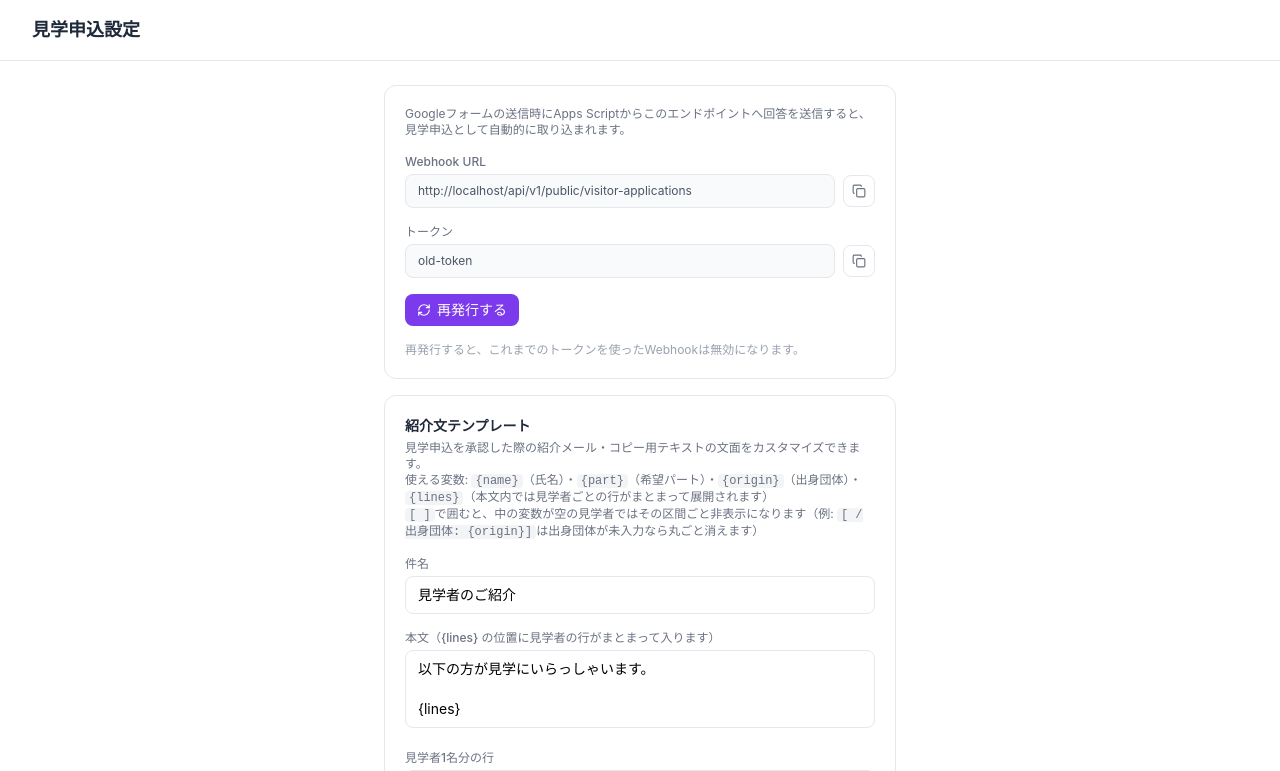
Test: VisitorWebhookPage › 発行済みで「再発行する」を押すと確認を出し、確定で新しいtokenに切り替わる
Check: the 2nd field showing "old-token" is shown, box x1=405 y1=244 x2=835 y2=278
Click the button "再発行する" at (462, 310), box x1=405 y1=294 x2=519 y2=326
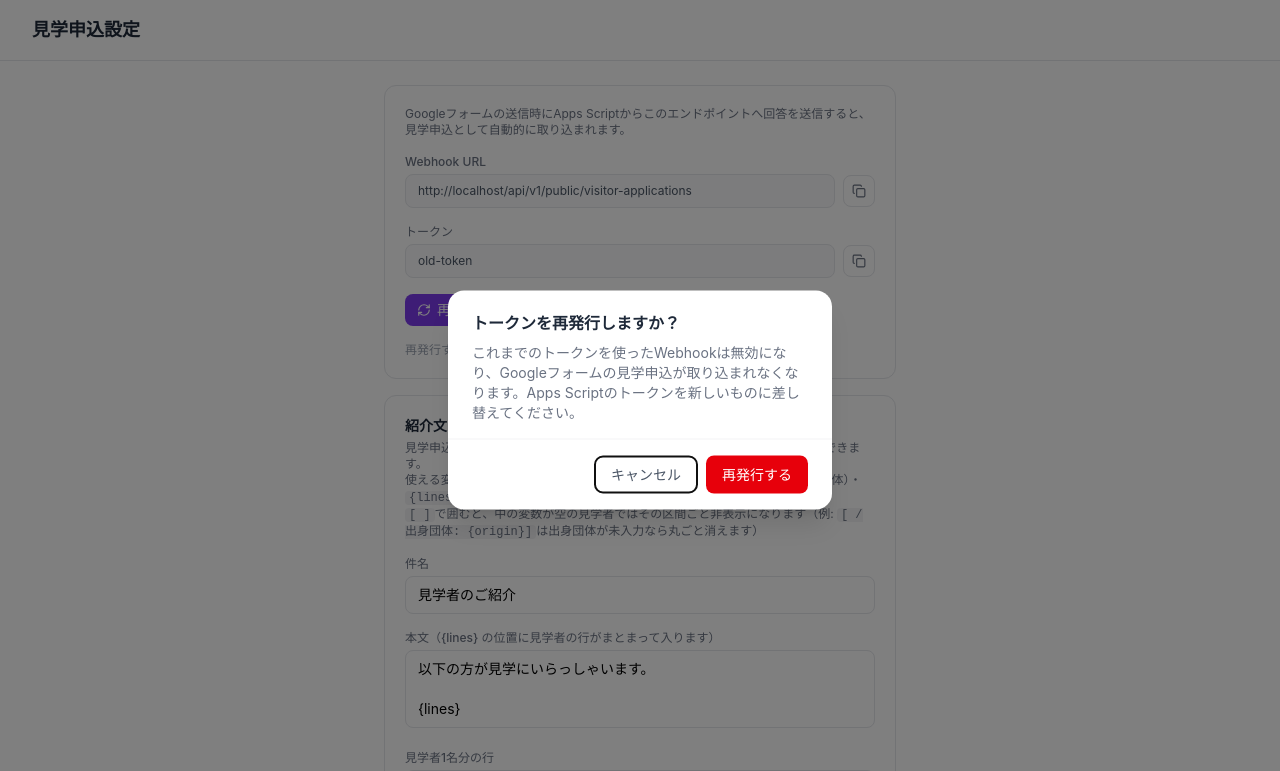
Click the button "再発行する" at (757, 474), box x1=706 y1=456 x2=808 y2=494
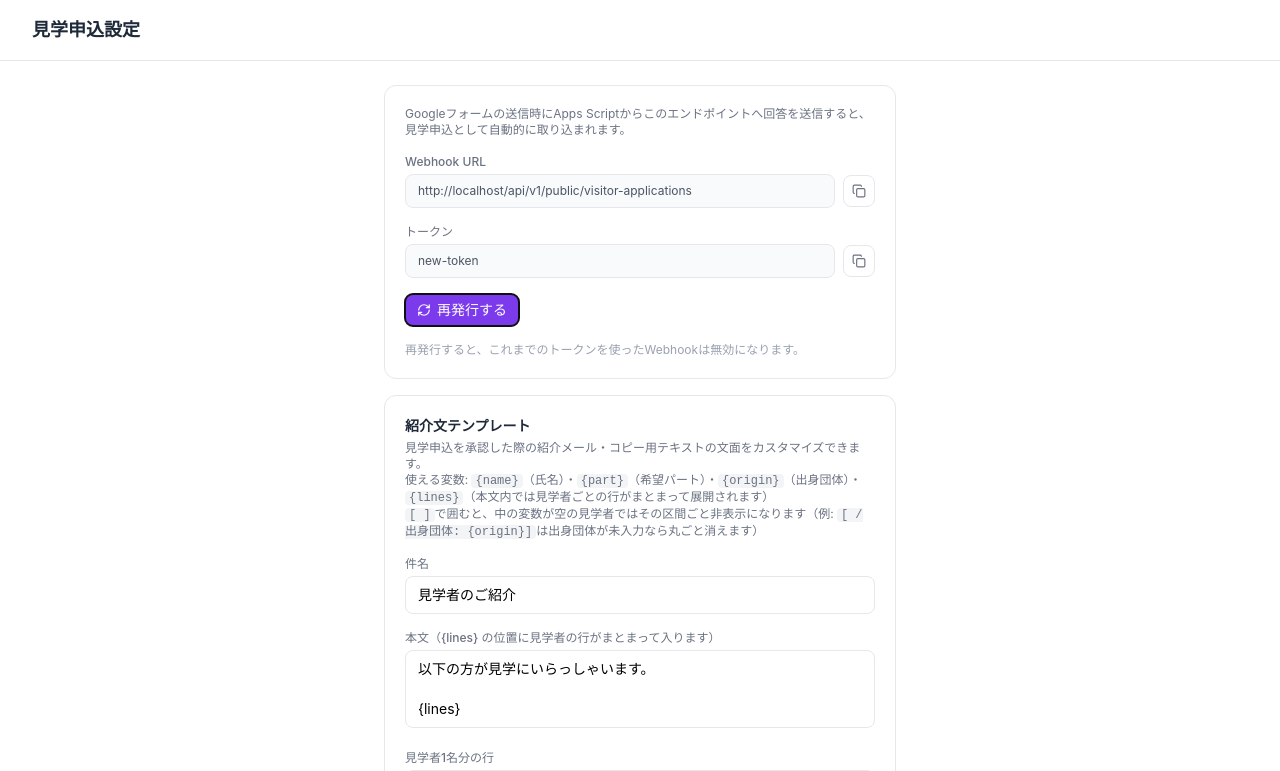
Check: the 2nd field showing "new-token" is shown, box x1=405 y1=244 x2=835 y2=278
